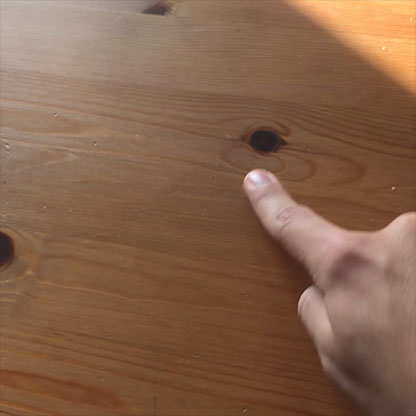fingertip: (239, 163, 287, 206)
